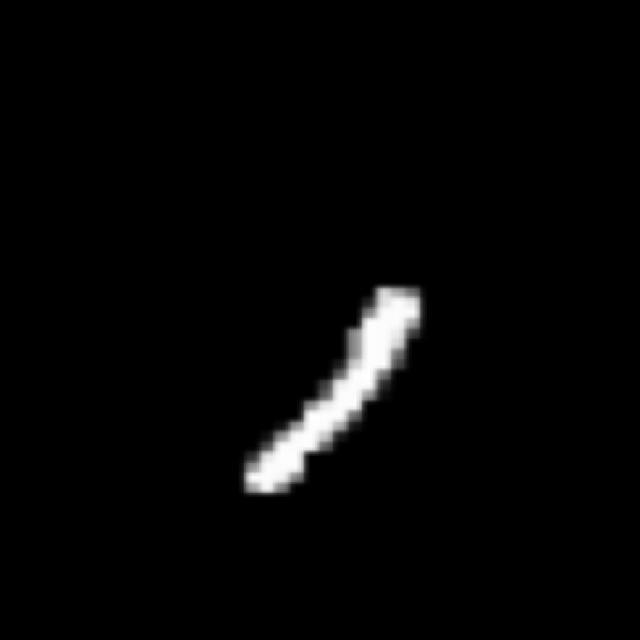one -1-: (223, 272, 448, 514)
